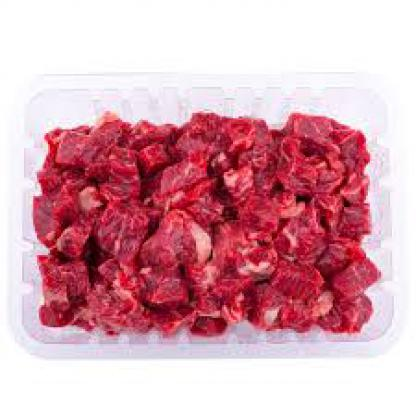beef: (44, 118, 379, 331)
